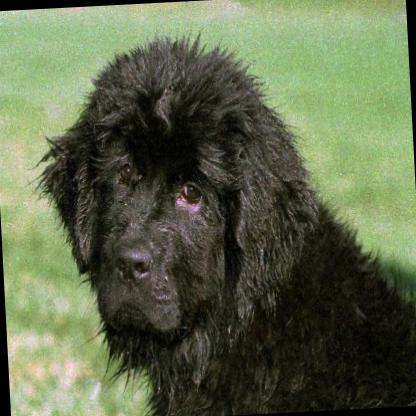Newfoundland: (14, 15, 416, 416)
